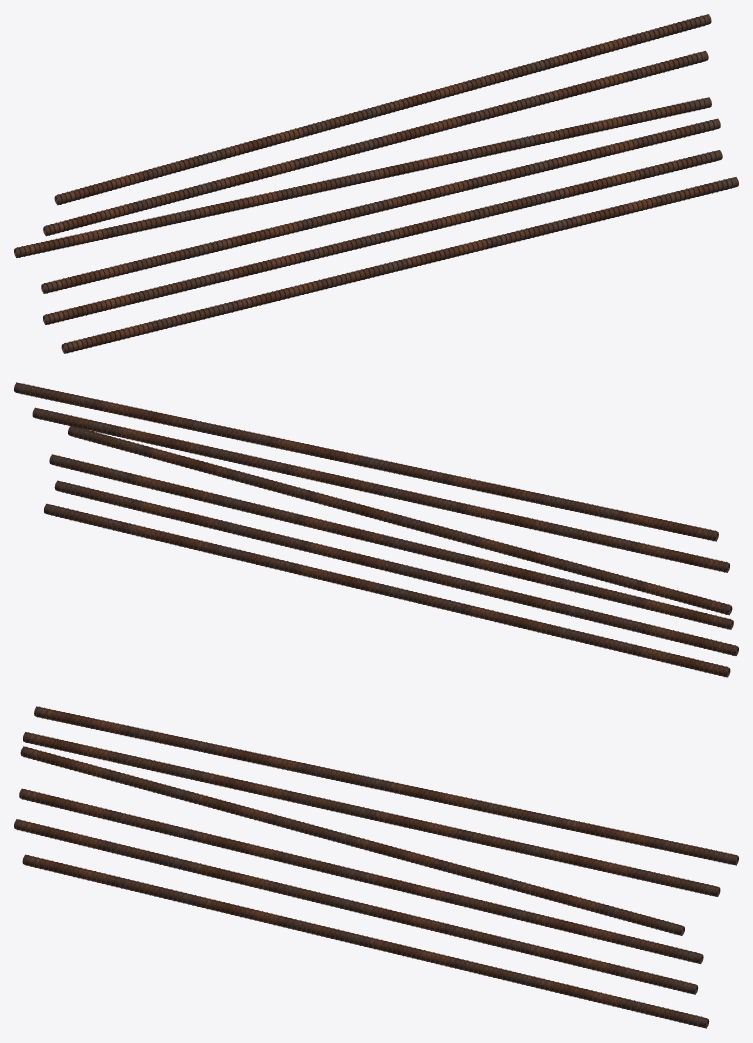
File: EST-ACO-004_anim.glb
3 renders of one model, top to bottom at view 1: azimuth 30°, elevation 25°; view 2: azimuth 150°, elevation 25°; view 3: azimuth 330°, elevation 25°, orthographic.
Parts seen in each view (by area): view 1: EST-ACO-004_anim3, EST-ACO-004_anim2, EST-ACO-004_anim1, EST-ACO-004_anim0, EST-ACO-004_anim4, EST-ACO-004_anim5; view 2: EST-ACO-004_anim5, EST-ACO-004_anim4, EST-ACO-004_anim0, EST-ACO-004_anim2, EST-ACO-004_anim1, EST-ACO-004_anim3; view 3: EST-ACO-004_anim5, EST-ACO-004_anim4, EST-ACO-004_anim0, EST-ACO-004_anim1, EST-ACO-004_anim2, EST-ACO-004_anim3.
Part boxes in pixels (bbox=[...]): EST-ACO-004_anim3: bbox=[14, 97, 711, 257]; EST-ACO-004_anim2: bbox=[41, 118, 720, 293]; EST-ACO-004_anim1: bbox=[43, 150, 722, 324]; EST-ACO-004_anim0: bbox=[61, 177, 738, 353]; EST-ACO-004_anim4: bbox=[43, 50, 708, 236]; EST-ACO-004_anim5: bbox=[54, 14, 711, 205]; EST-ACO-004_anim5: bbox=[14, 382, 718, 541]; EST-ACO-004_anim4: bbox=[32, 407, 729, 572]; EST-ACO-004_anim0: bbox=[44, 503, 730, 677]; EST-ACO-004_anim2: bbox=[49, 454, 733, 629]; EST-ACO-004_anim1: bbox=[54, 480, 738, 655]; EST-ACO-004_anim3: bbox=[68, 426, 732, 615]; EST-ACO-004_anim5: bbox=[34, 706, 738, 865]; EST-ACO-004_anim4: bbox=[23, 732, 720, 896]; EST-ACO-004_anim0: bbox=[22, 854, 709, 1028]; EST-ACO-004_anim1: bbox=[14, 819, 698, 994]; EST-ACO-004_anim2: bbox=[19, 788, 703, 963]; EST-ACO-004_anim3: bbox=[20, 746, 684, 935].
Bounding box in the file's own units: 1.04 × 0.214 × 0.0944.
1 material, 1 textured.
